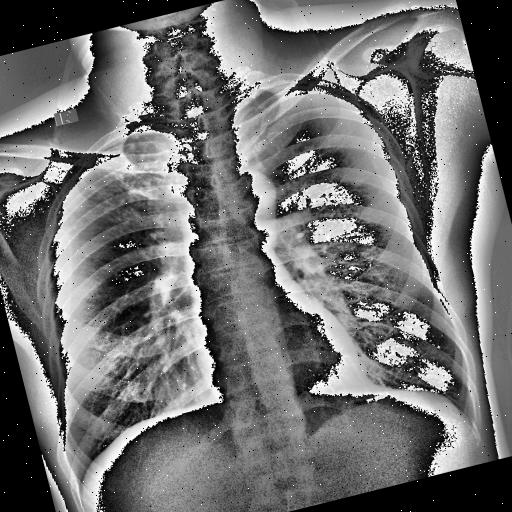13- Pulmonary fibrosis: (75, 135, 189, 254), (70, 136, 181, 254)
6- Infiltration: (75, 135, 189, 254), (70, 136, 181, 254), (72, 136, 172, 246)
